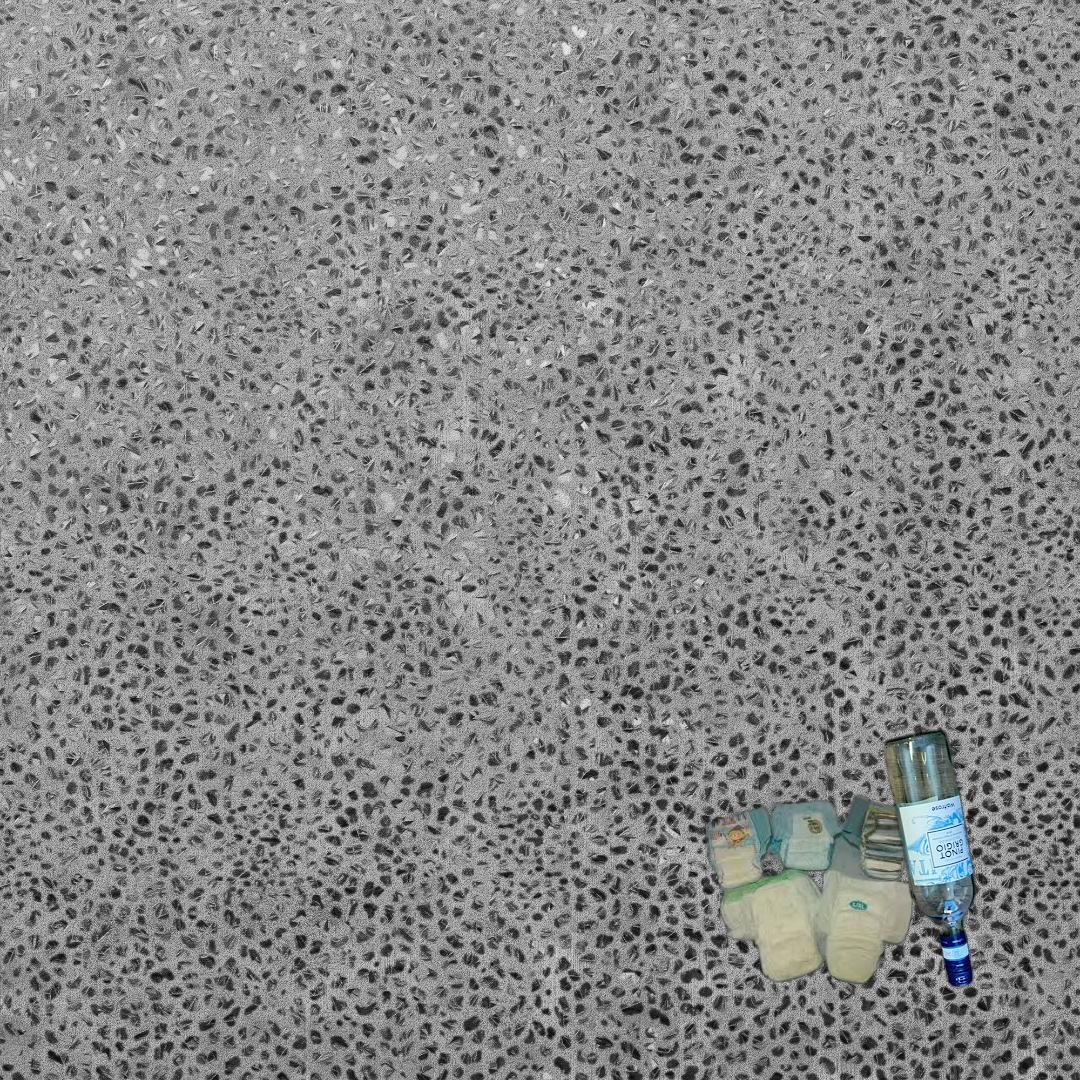glass: (879, 724, 981, 994)
trash: (701, 792, 926, 987)
